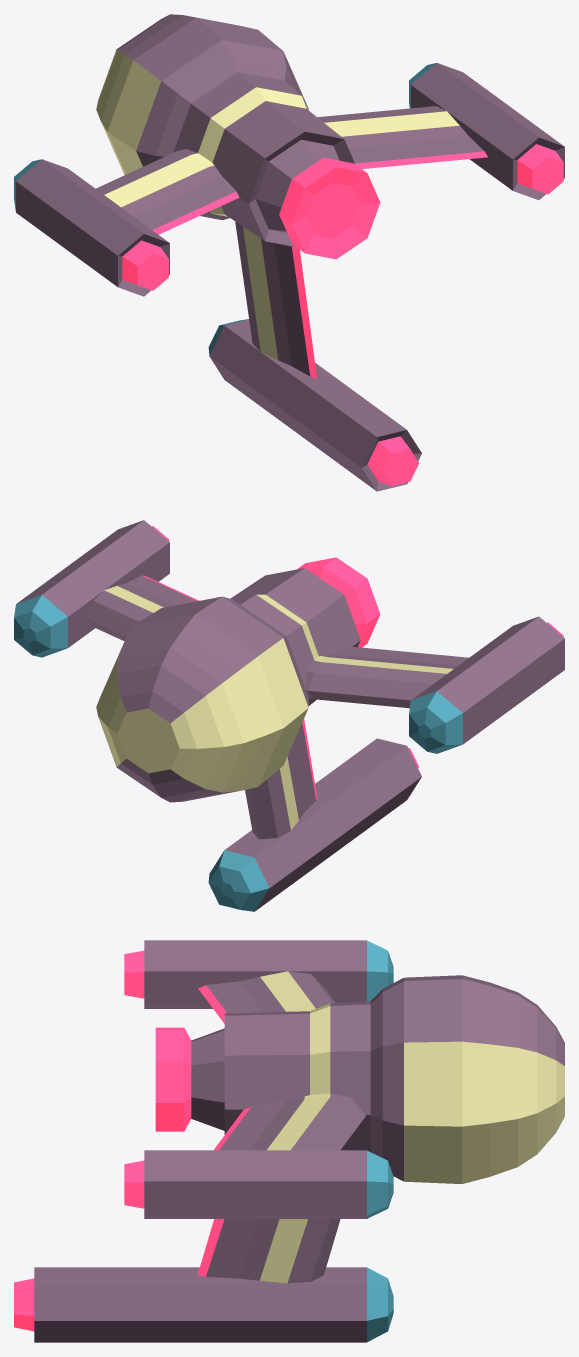
The model's file is LittleEnemyShip.fbx.
3 views of the same model, one above another, from view 1: azimuth 30°, elevation 25°; view 2: azimuth 150°, elevation 25°; view 3: azimuth 270°, elevation 25° (orthographic). The views are drawn at different scales.
Visible parts, largest first — view 1: LittleEnemy; view 2: LittleEnemy; view 3: LittleEnemy.
Part boxes in pixels (left/top/right/bottom): LittleEnemy: left=14, top=14, right=564, bottom=491; LittleEnemy: left=14, top=520, right=564, bottom=911; LittleEnemy: left=14, top=940, right=564, bottom=1342.
Size of the model in its own units: 759 by 529 by 743.
